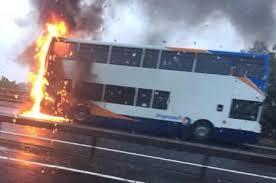fire: (33, 27, 66, 122)
smoke: (38, 2, 102, 21)
